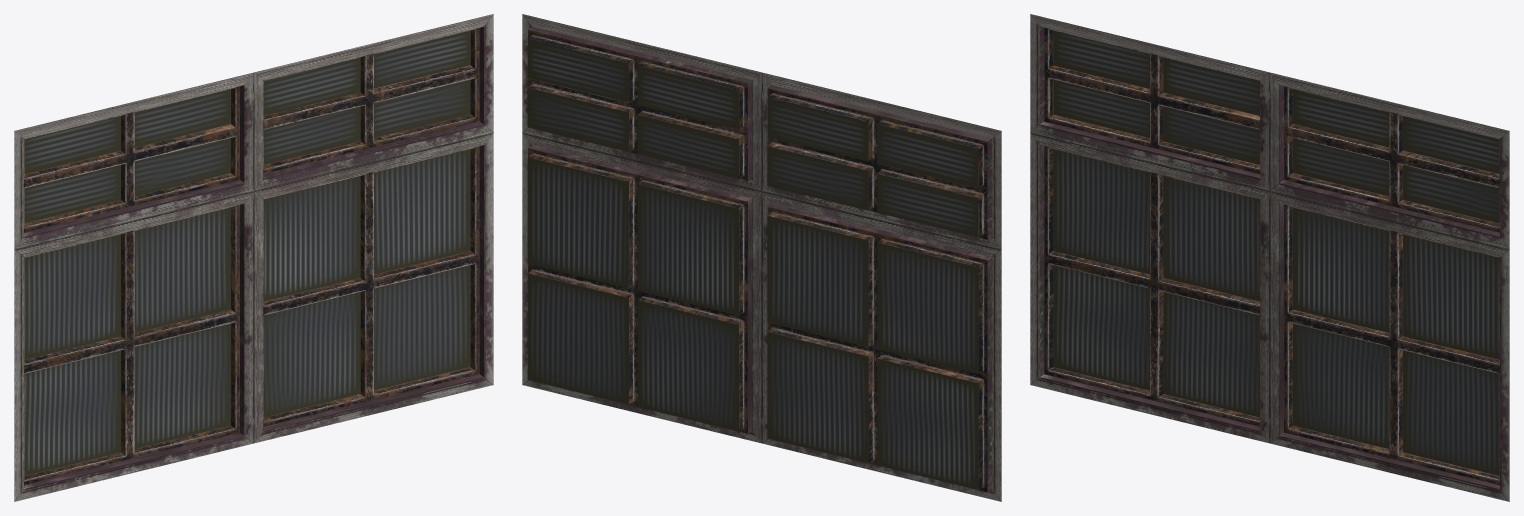
File: OldWindow.glb
3 views of the same model, side by side, from view 1: azimuth 30°, elevation 25°; view 2: azimuth 150°, elevation 25°; view 3: azimuth 330°, elevation 25° (orthographic).
Parts seen in each view (by area): view 1: Plane_0; view 2: Plane_0; view 3: Plane_0.
Part boxes in pixels (<box>): Plane_0: <box>14,14,493,501</box>; Plane_0: <box>522,14,1001,501</box>; Plane_0: <box>1030,14,1509,501</box>.
Bounding box in the file's own units: 2.7 × 2 × 0.0862.
3 materials, 3 textured.
